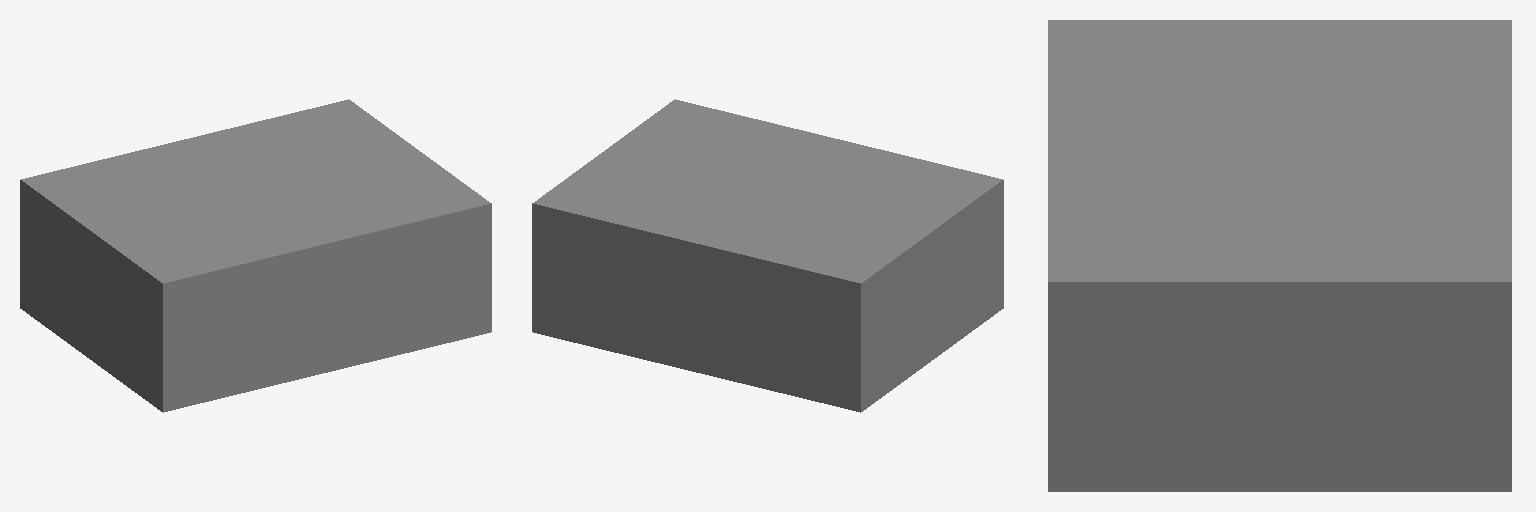
The robot description file, URDF, robot "delivery_bot":
<?xml version="1.0"?>
<robot name="delivery_bot">

  <!-- Base chassis -->
  <link name="base_link">
    <visual>
      <geometry>
        <box size="0.4 0.3 0.15"/> <!-- LxWxH in meters -->
      </geometry>
      <material name="gray">
        <color rgba="0.6 0.6 0.6 1"/>
      </material>
    </visual>
    <collision>
      <geometry>
        <box size="0.4 0.3 0.15"/>
      </geometry>
    </collision>
    <inertial>
      <mass value="5.0"/>
      <inertia ixx="0.1" ixy="0" ixz="0" iyy="0.1" iyz="0" izz="0.1"/>
    </inertial>
  </link>

  <!-- Rear left wheel -->
  <link name="rear_left_wheel"/>
  <joint name="rear_left_wheel_joint" type="continuous">
    <parent link="base_link"/>
    <child link="rear_left_wheel"/>
    <origin xyz="-0.15 0.12 0.03" rpy="0 0 0"/>
    <axis xyz="0 1 0"/>
  </joint>

  <!-- Rear right wheel -->
  <link name="rear_right_wheel"/>
  <joint name="rear_right_wheel_joint" type="continuous">
    <parent link="base_link"/>
    <child link="rear_right_wheel"/>
    <origin xyz="-0.15 -0.12 0.03" rpy="0 0 0"/>
    <axis xyz="0 1 0"/>
  </joint>

  <!-- Front left caster -->
  <link name="front_left_wheel"/>
  <joint name="front_left_wheel_joint" type="continuous">
    <parent link="base_link"/>
    <child link="front_left_wheel"/>
    <origin xyz="0.15 0.12 0.03" rpy="0 0 0"/>
    <axis xyz="0 0 1"/>
  </joint>

  <!-- Front right caster -->
  <link name="front_right_wheel"/>
  <joint name="front_right_wheel_joint" type="continuous">
    <parent link="base_link"/>
    <child link="front_right_wheel"/>
    <origin xyz="0.15 -0.12 0.03" rpy="0 0 0"/>
    <axis xyz="0 0 1"/>
  </joint>

  <!-- LiDAR -->
  <link name="lidar_link"/>
  <joint name="lidar_joint" type="fixed">
    <parent link="base_link"/>
    <child link="lidar_link"/>
    <origin xyz="0 0 0.1" rpy="0 0 0"/>
  </joint>

  <!-- Camera -->
  <link name="camera_link"/>
  <joint name="camera_joint" type="fixed">
    <parent link="base_link"/>
    <child link="camera_link"/>
    <origin xyz="0.15 0 0.1" rpy="0 0 0"/>
  </joint>

  <!-- Gazebo plugins -->
  <gazebo>
    <plugin name="diff_drive" filename="libgazebo_ros_diff_drive.so">
      <left_wheel>rear_left_wheel_joint</left_wheel>
      <right_wheel>rear_right_wheel_joint</right_wheel>
      <wheel_separation>0.24</wheel_separation>
      <wheel_radius>0.03</wheel_radius>
      <publish_wheel_tf>true</publish_wheel_tf>
      <robot_base_frame>base_link</robot_base_frame>
    </plugin>
  </gazebo>

  <gazebo reference="lidar_link">
    <sensor type="ray" name="lidar_sensor">
      <pose>0 0 0 0 0 0</pose>
      <ray>
        <scan>
          <horizontal>
            <samples>360</samples>
            <resolution>1</resolution>
            <min_angle>-3.14</min_angle>
            <max_angle>3.14</max_angle>
          </horizontal>
        </scan>
        <range>
          <min>0.12</min>
          <max>3.5</max>
        </range>
      </ray>
      <plugin name="lidar_plugin" filename="libgazebo_ros_ray_sensor.so">
        <topic_name>scan</topic_name>
        <frame_name>lidar_link</frame_name>
      </plugin>
    </sensor>
  </gazebo>

  <gazebo reference="camera_link">
    <sensor type="camera" name="camera_sensor">
      <camera>
        <horizontal_fov>1.0</horizontal_fov>
        <image>
          <width>640</width>
          <height>480</height>
          <format>R8G8B8</format>
        </image>
        <clip>
          <near>0.1</near>
          <far>100</far>
        </clip>
      </camera>
      <always_on>true</always_on>
      <update_rate>30.0</update_rate>
      <plugin name="camera_controller" filename="libgazebo_ros_camera.so">
        <camera_name>front_camera</camera_name>
        <image_topic_name>image_raw</image_topic_name>
        <camera_info_topic_name>camera_info</camera_info_topic_name>
        <frame_name>camera_link</frame_name>
      </plugin>
    </sensor>
  </gazebo>

</robot>

--- Facts derived from the render (not from the file) ---
Views: 3 orthographic renders of the robot side by side, from view 1: azimuth 30°, elevation 25°; view 2: azimuth 150°, elevation 25°; view 3: azimuth 270°, elevation 25°.
Robot: delivery_bot — 7 links, 6 joints (4 continuous, 2 fixed); root link base_link; default pose: every joint at zero.
Visible links, largest first — view 1: base_link; view 2: base_link; view 3: base_link.
Boxes of the visible links, x1,y1,x2,y2 form: base_link: [20, 99, 491, 412]; base_link: [532, 99, 1003, 412]; base_link: [1048, 20, 1511, 491].
Size in the robot's own frame: 0.4 by 0.3 by 0.15 metres.
Geometry: primitives only (box / cylinder / sphere), no mesh files.
